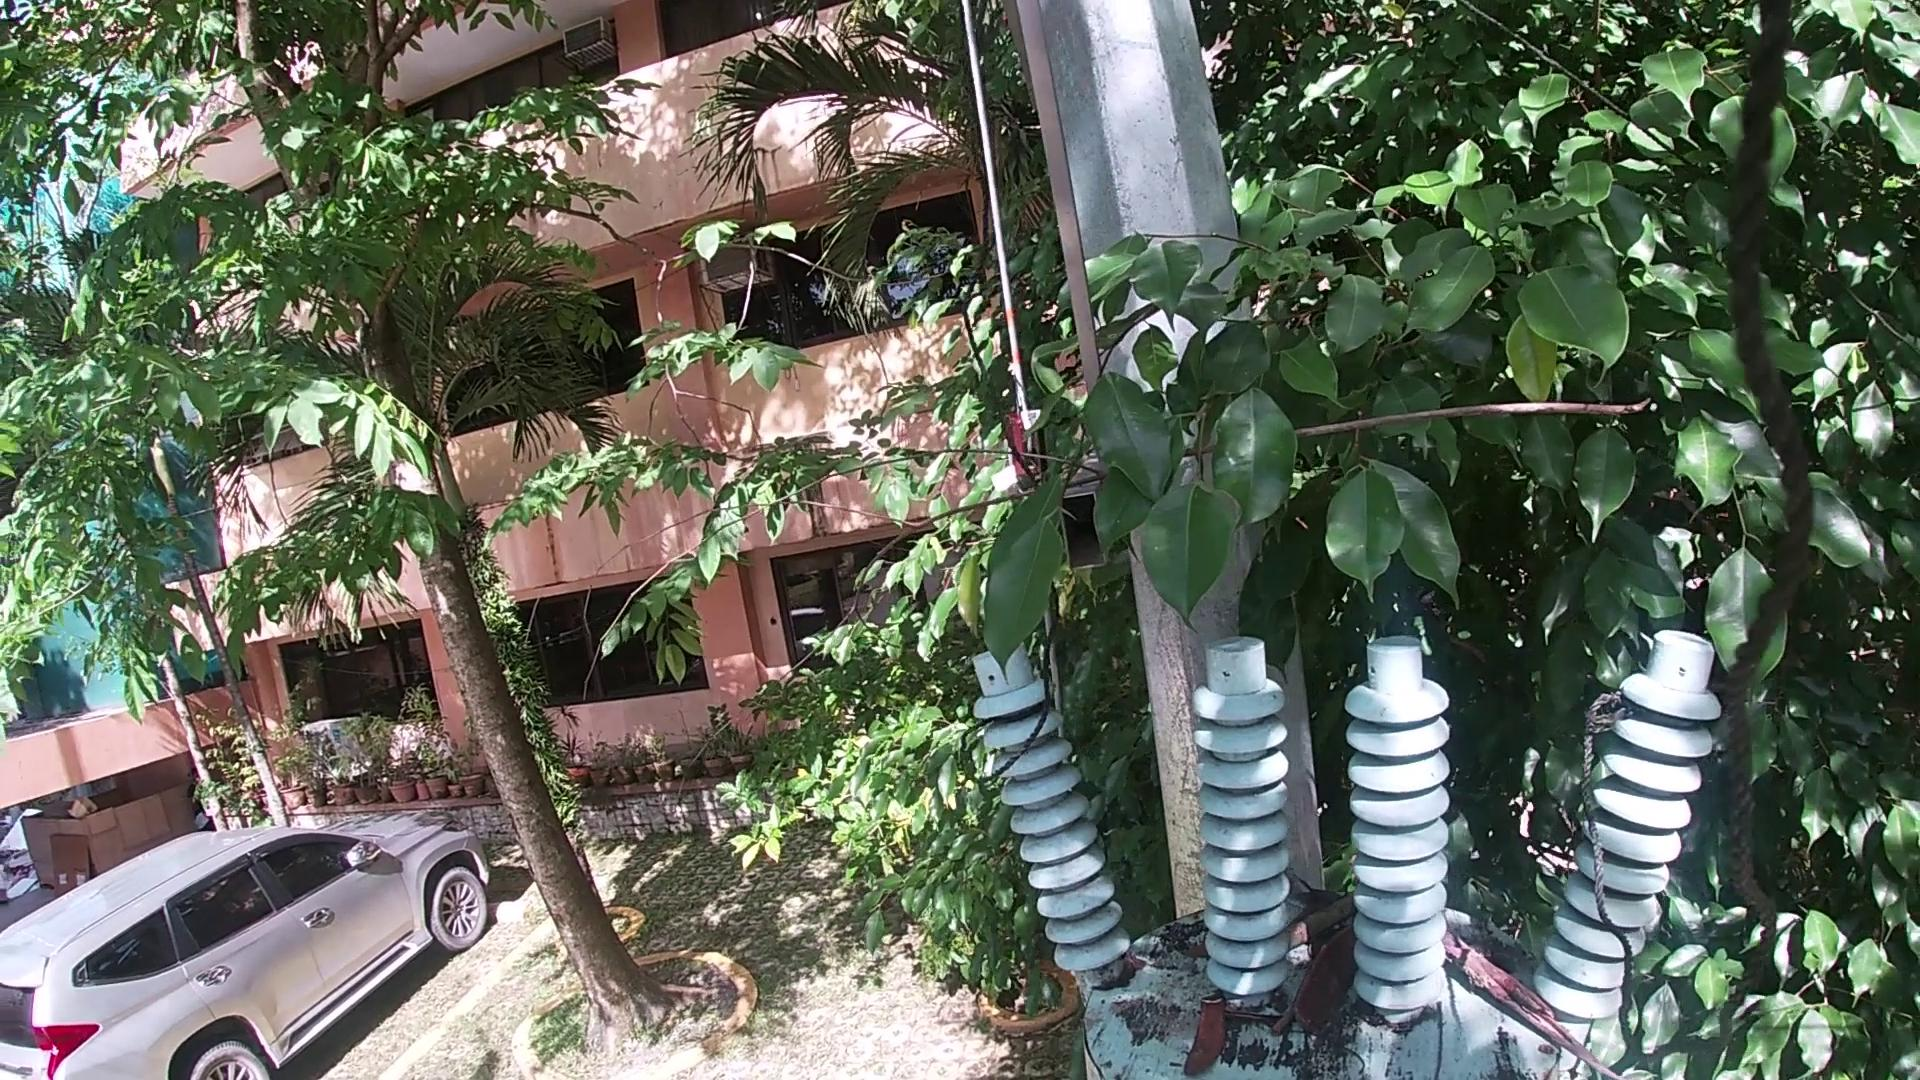leaf: (1232, 1006, 1284, 1038), (1178, 942, 1205, 964)
mahogany fruit: (1282, 928, 1369, 1033), (1179, 996, 1224, 1077)
tree branch: (547, 372, 1696, 684), (1443, 934, 1634, 1077), (1287, 891, 1361, 945), (1316, 1044, 1371, 1077)
